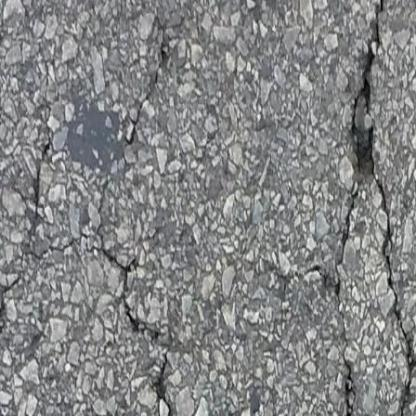Cracks: (56, 210, 226, 416), (338, 2, 414, 416), (92, 0, 225, 162), (0, 104, 88, 318)
